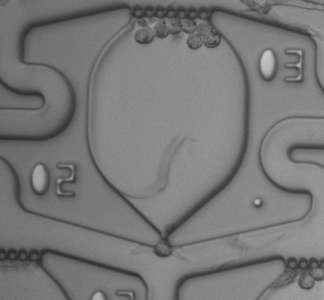AptNum: (248, 43, 310, 88)
Marker: (243, 189, 273, 216)
StNum: (22, 156, 84, 206)
Trap: (141, 238, 185, 283)
